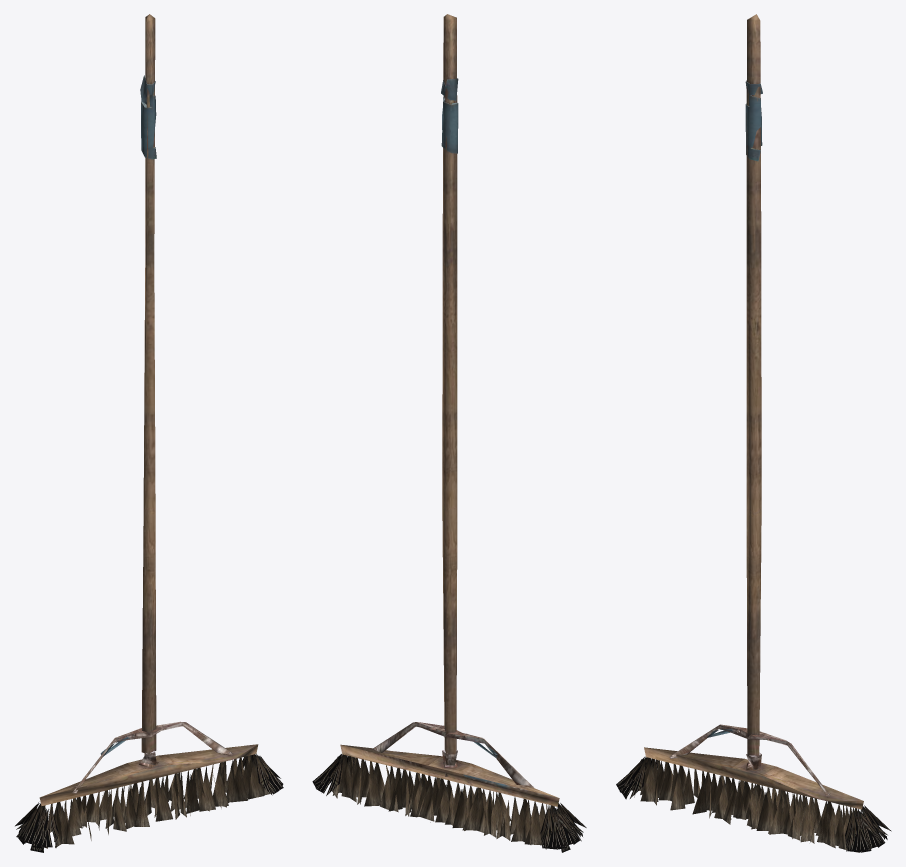
File: wooden_broom.glb
3 views of the same model, side by side, from view 1: azimuth 30°, elevation 25°; view 2: azimuth 150°, elevation 25°; view 3: azimuth 330°, elevation 25° (orthographic).
Visible parts, largest first — view 1: wooden_broom, wooden_broom_handle, wooden_broom_bristles; view 2: wooden_broom, wooden_broom_handle, wooden_broom_bristles; view 3: wooden_broom, wooden_broom_handle, wooden_broom_bristles.
Part boxes in pixels (<box>): wooden_broom: <box>39,721,272,848</box>; wooden_broom_handle: <box>140,14,156,765</box>; wooden_broom_bristles: <box>15,754,283,852</box>; wooden_broom: <box>332,722,560,849</box>; wooden_broom_handle: <box>441,14,458,776</box>; wooden_broom_bristles: <box>312,754,586,852</box>; wooden_broom: <box>631,724,871,852</box>; wooden_broom_handle: <box>745,14,762,769</box>; wooden_broom_bristles: <box>616,757,891,852</box>.
Bounding box in the file's own units: 0.4902 × 1.45 × 0.1038.
2 materials, 2 textured.
